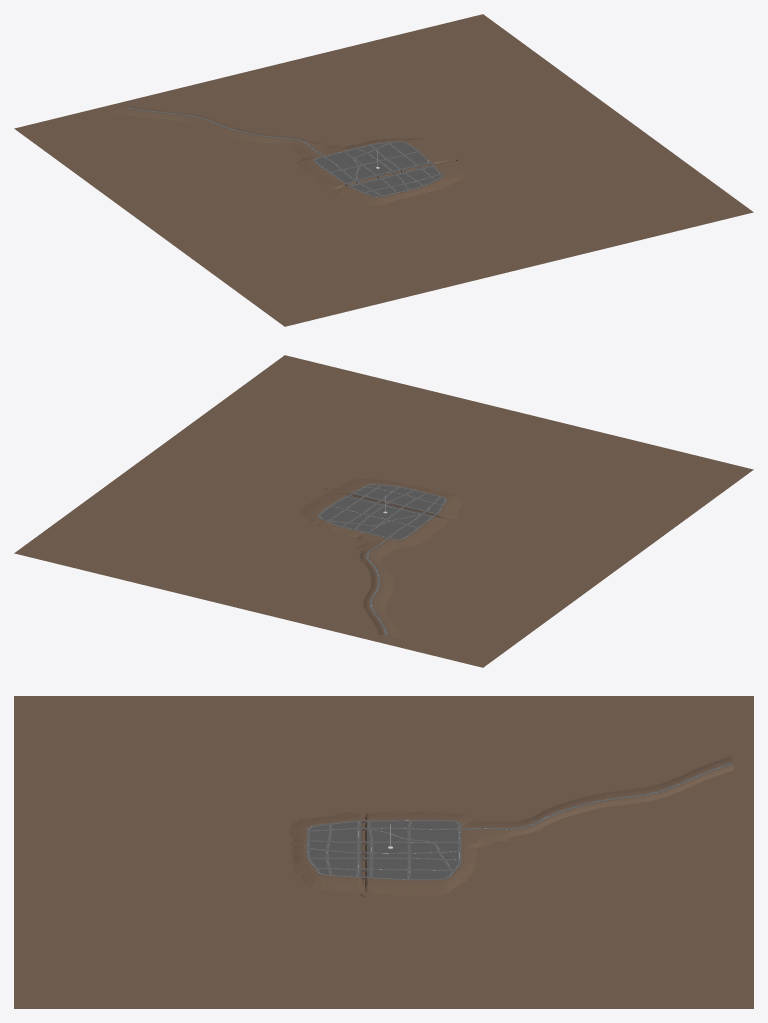
File: city.fbx
3 views of the same model, one above another, from view 1: azimuth 30°, elevation 25°; view 2: azimuth 150°, elevation 25°; view 3: azimuth 270°, elevation 25° (orthographic). The views are drawn at different scales.
Visible parts, largest first — view 1: ground, island, ground_2, road; view 2: ground, island, ground_2, road; view 3: ground, island, ground_2, road, curb.
Part boxes in pixels (x1,y1,x2,y2): ground: [14, 14, 753, 326]; island: [113, 106, 465, 205]; ground_2: [315, 142, 441, 196]; road: [126, 107, 443, 197]; ground: [14, 355, 753, 667]; island: [299, 478, 463, 639]; ground_2: [320, 485, 444, 539]; road: [318, 484, 446, 635]; ground: [14, 696, 753, 1008]; island: [288, 756, 734, 896]; ground_2: [309, 821, 458, 878]; road: [306, 763, 733, 880]; curb: [306, 762, 731, 880].
Bounding box in the file's own units: 1169 × 48.85 × 1169.
